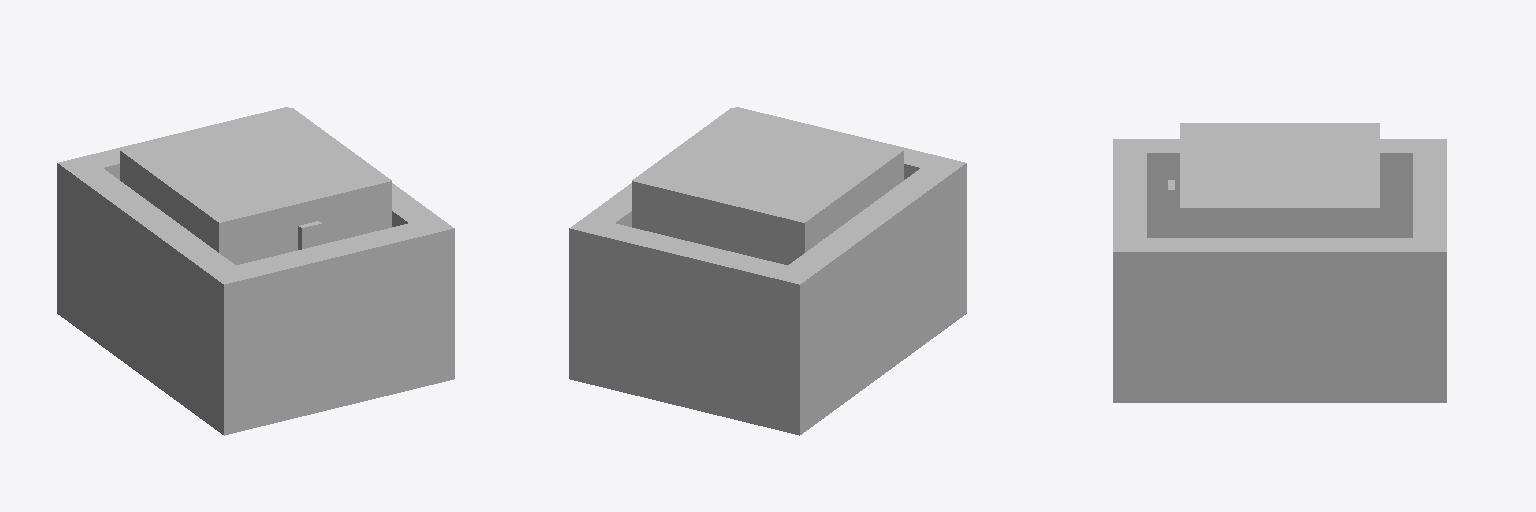
Rendered from ninjamono.obj.
The picture shows the model from 3 angles: view 1: azimuth 30°, elevation 25°; view 2: azimuth 150°, elevation 25°; view 3: azimuth 270°, elevation 25°; orthographic projection.
Parts seen in each view (by area): view 1: front, cube, left, bottom, back, right; view 2: back, cube, left, bottom, front, right; view 3: right, cube, bottom, front, back, left.
Boxes of the visible parts, x1=… form: front: x1=207, y1=216, x2=454, y2=404; cube: x1=120, y1=108, x2=391, y2=264; left: x1=74, y1=168, x2=235, y2=392; bottom: x1=57, y1=284, x2=454, y2=435; back: x1=57, y1=107, x2=289, y2=294; right: x1=392, y1=183, x2=436, y2=226; back: x1=569, y1=216, x2=816, y2=404; cube: x1=632, y1=108, x2=903, y2=264; left: x1=788, y1=168, x2=949, y2=392; bottom: x1=569, y1=284, x2=966, y2=435; front: x1=734, y1=107, x2=966, y2=294; right: x1=587, y1=183, x2=631, y2=226; right: x1=1147, y1=238, x2=1412, y2=372; cube: x1=1168, y1=123, x2=1379, y2=237; bottom: x1=1113, y1=373, x2=1446, y2=402; front: x1=1113, y1=139, x2=1146, y2=372; back: x1=1413, y1=139, x2=1446, y2=372; left: x1=1147, y1=139, x2=1412, y2=237.
Size of the model in its own units: 1 by 0.75 by 1.25.